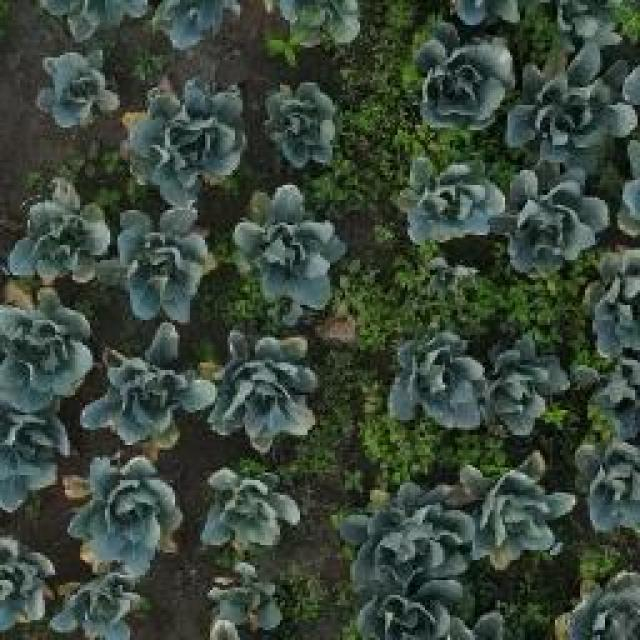cabbage: (378, 320, 488, 438), (210, 342, 314, 442), (102, 338, 196, 443), (76, 468, 173, 566), (136, 93, 240, 184), (518, 62, 618, 155), (363, 499, 471, 585), (119, 214, 209, 314), (479, 470, 568, 564), (237, 198, 327, 290), (498, 176, 599, 255), (402, 160, 494, 242), (0, 309, 82, 397), (19, 194, 105, 277), (210, 468, 292, 555), (420, 44, 508, 125), (260, 89, 345, 160), (491, 350, 572, 424), (46, 54, 116, 123)
